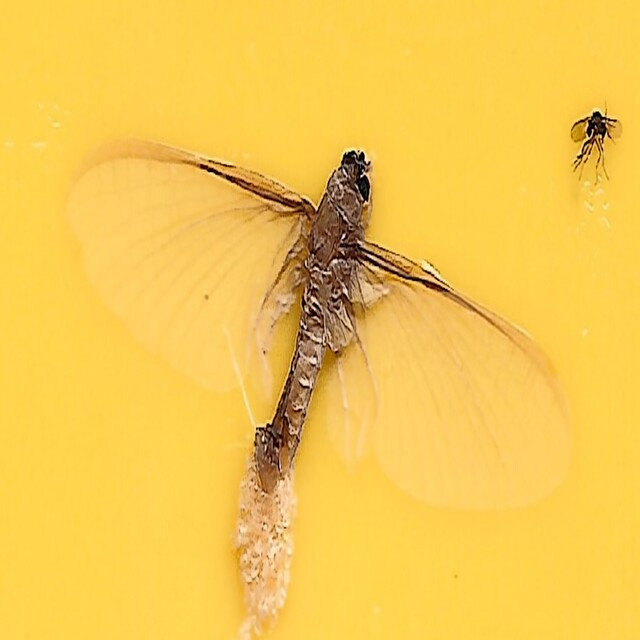Ephemeroptera: (64, 134, 576, 506)
